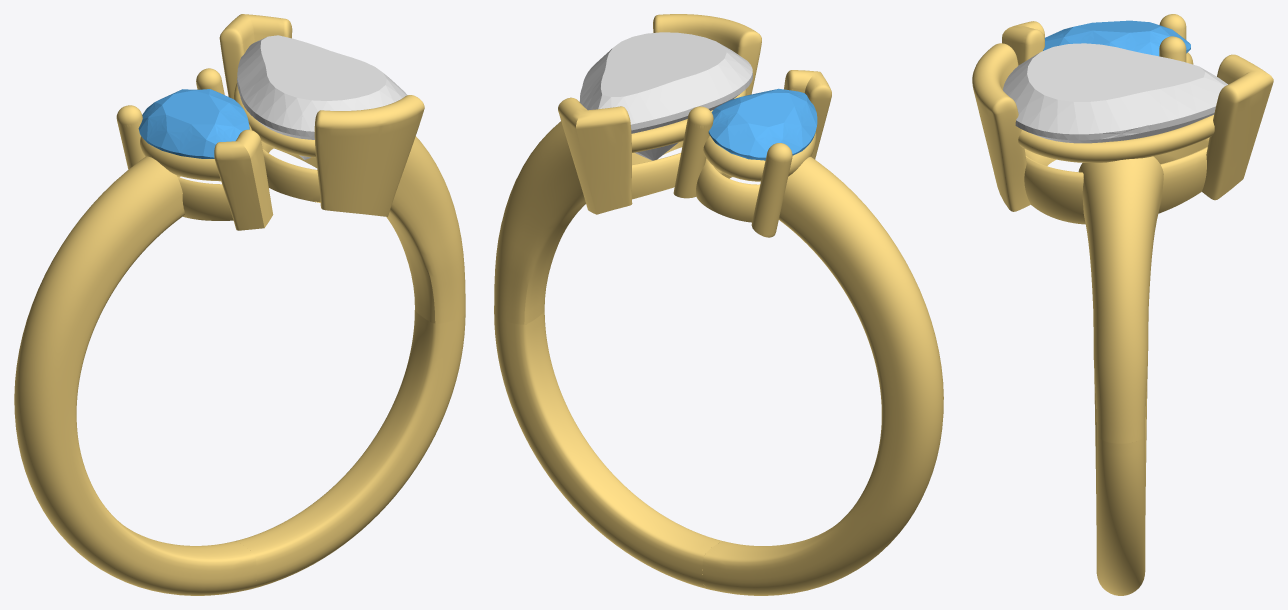
File: NicV5_blender.glb
3 views of the same model, side by side, from view 1: azimuth 30°, elevation 25°; view 2: azimuth 150°, elevation 25°; view 3: azimuth 270°, elevation 25° (orthographic). The views are drawn at different scales.
Parts seen in each view (by area): view 1: V5 Nicolas YG for 3d model, V5 Nicolas center diamond for 3d model, V5 Nicolas sapphire for 3d model; view 2: V5 Nicolas YG for 3d model, V5 Nicolas center diamond for 3d model, V5 Nicolas sapphire for 3d model; view 3: V5 Nicolas YG for 3d model, V5 Nicolas center diamond for 3d model, V5 Nicolas sapphire for 3d model.
Part boxes in pixels (x1,y1,x2,y2): V5 Nicolas YG for 3d model: [14, 14, 465, 595]; V5 Nicolas center diamond for 3d model: [237, 35, 407, 159]; V5 Nicolas sapphire for 3d model: [138, 89, 249, 158]; V5 Nicolas YG for 3d model: [494, 14, 943, 595]; V5 Nicolas center diamond for 3d model: [580, 32, 752, 160]; V5 Nicolas sapphire for 3d model: [708, 88, 817, 160]; V5 Nicolas YG for 3d model: [972, 14, 1273, 595]; V5 Nicolas center diamond for 3d model: [1003, 43, 1227, 143]; V5 Nicolas sapphire for 3d model: [1043, 20, 1190, 56].
Size of the model in its own units: 19.92 by 21.93 by 11.15.
